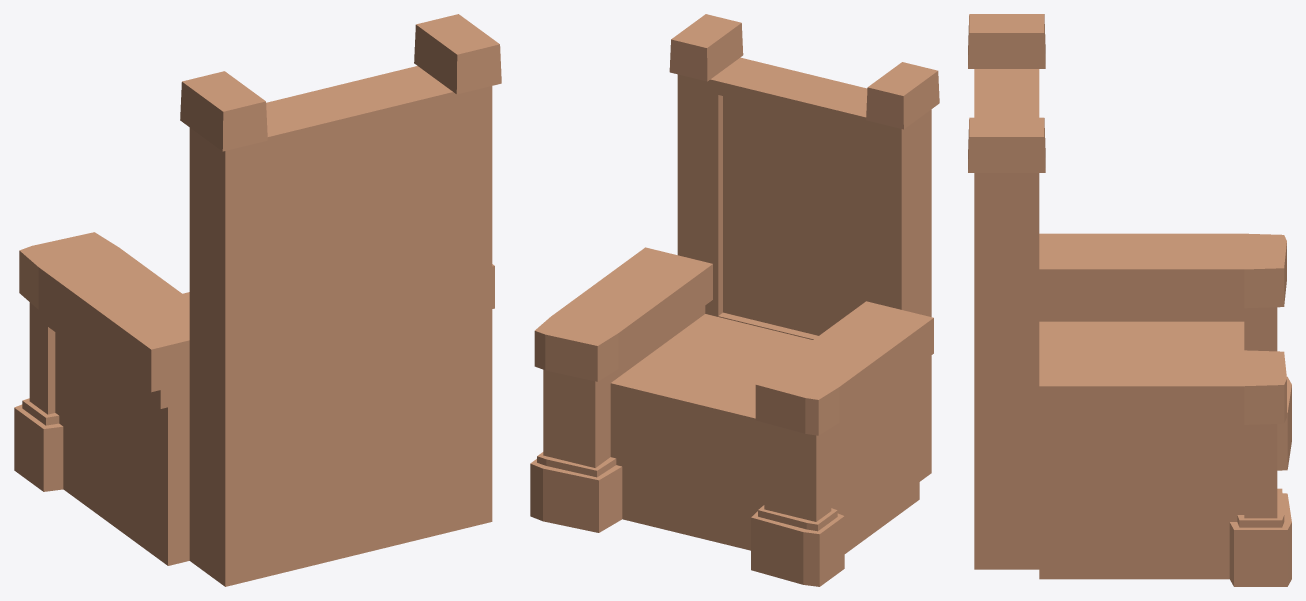
Rendered from tronoBo.fbx.
The picture shows the model from 3 angles, left to right: view 1: azimuth 30°, elevation 25°; view 2: azimuth 150°, elevation 25°; view 3: azimuth 270°, elevation 25°; orthographic projection. The views are drawn at different scales.
Parts seen in each view (by area): view 1: Cube; view 2: Cube; view 3: Cube.
Part boxes in pixels (<box>): Cube: <box>14,14,501,586</box>; Cube: <box>530,14,939,586</box>; Cube: <box>968,14,1291,586</box>.
Size of the model in its own units: 155 by 205 by 138.
